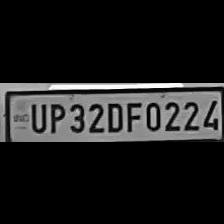0: (142, 97, 162, 131)
2: (86, 99, 104, 134), (161, 97, 179, 131), (181, 97, 199, 131)
3: (66, 99, 86, 134)
4: (200, 96, 218, 130)
D: (104, 97, 124, 132)
F: (123, 97, 141, 132)
P: (46, 99, 64, 133)
U: (26, 100, 46, 132)
